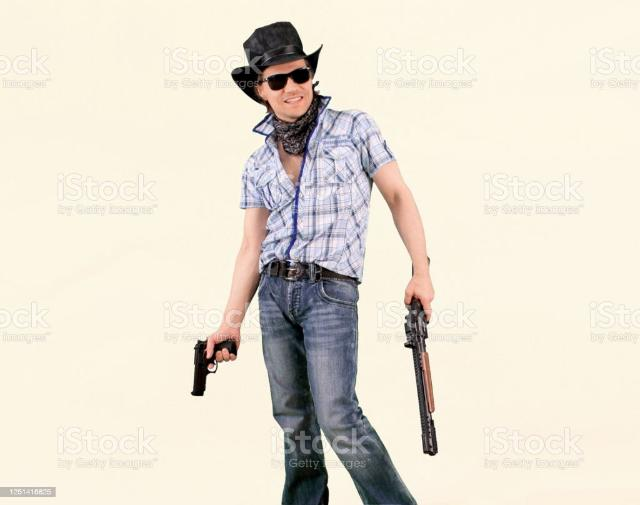handgun: (187, 332, 241, 400)
